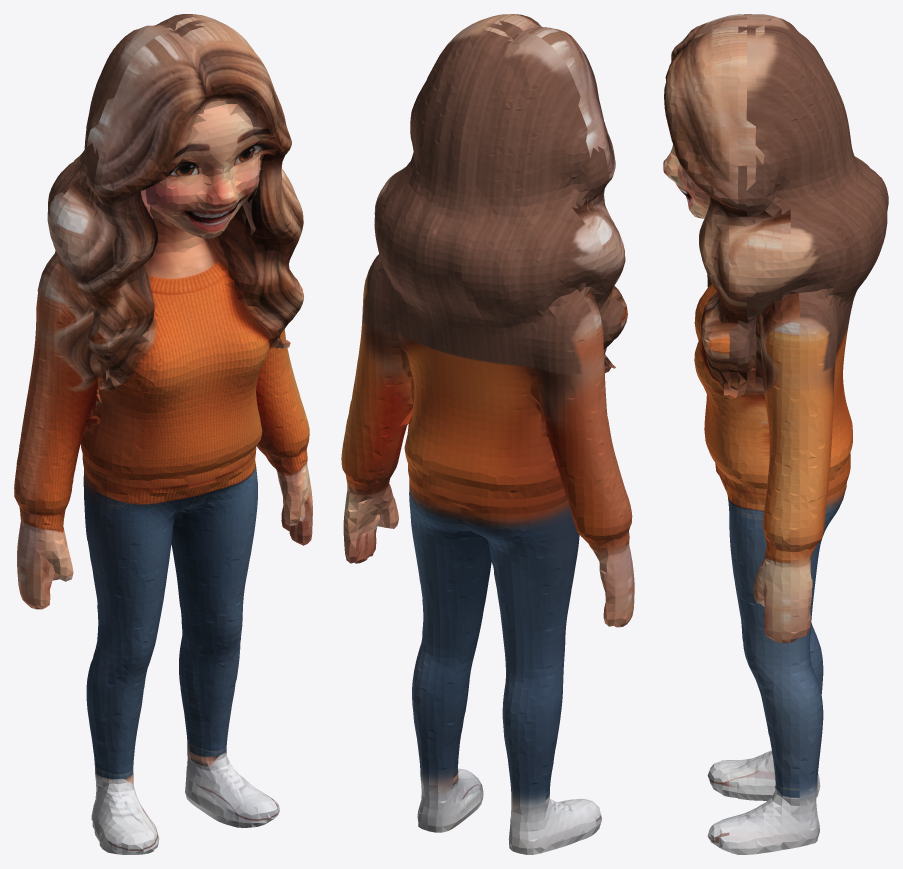
The model's file is mimi.glb.
The picture shows the model from 3 angles, left to right: view 1: azimuth 30°, elevation 25°; view 2: azimuth 150°, elevation 25°; view 3: azimuth 270°, elevation 25°; orthographic projection.
Visible parts, largest first — view 1: geometry_0; view 2: geometry_0; view 3: geometry_0.
Part boxes in pixels (bbox=[...]): geometry_0: bbox=[14, 14, 312, 854]; geometry_0: bbox=[341, 14, 634, 854]; geometry_0: bbox=[663, 14, 888, 854].
Size of the model in its own units: 0.3738 by 1 by 0.2584.
1 material, 1 textured.
